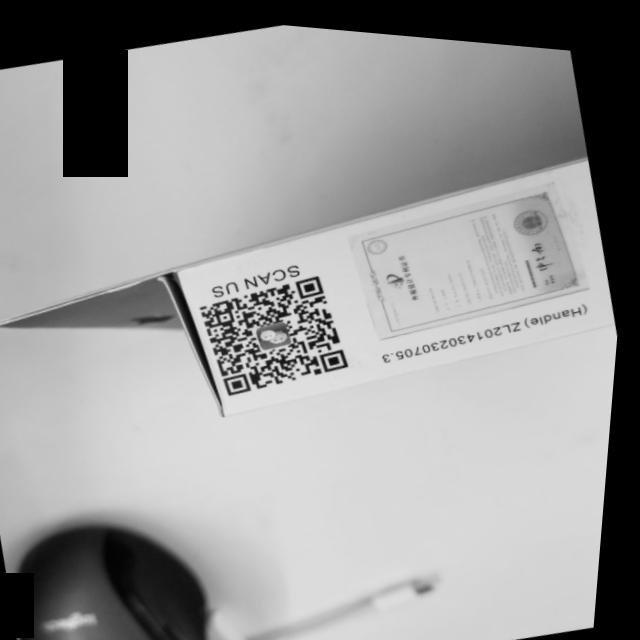QR_CODE: (177, 248, 376, 415)
